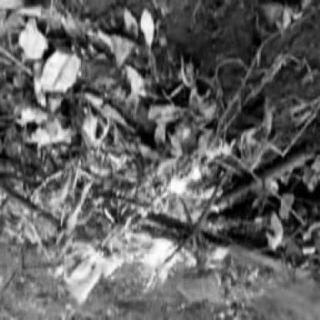Fire: (14, 118, 228, 316)
